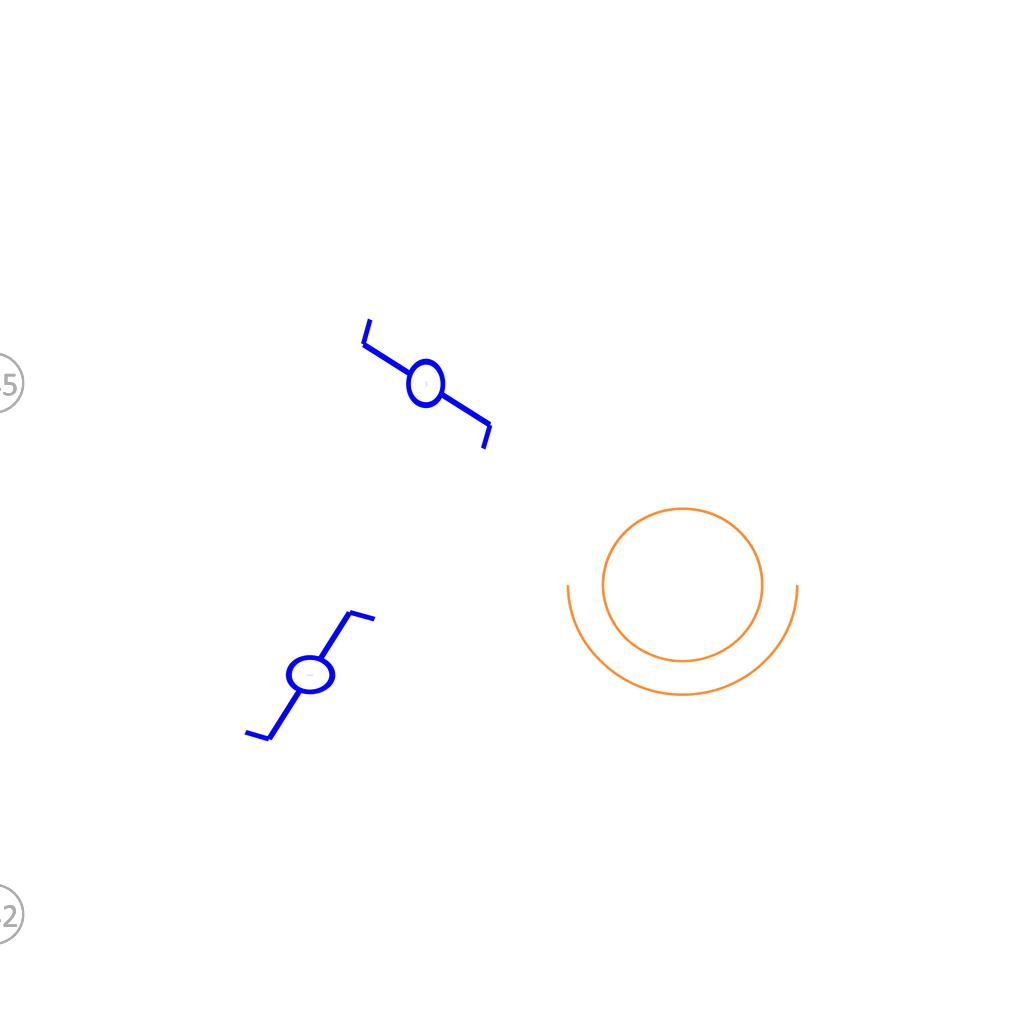Scheinwerfer_fuer_Alarmbeleuchtung: (557, 482, 821, 707)
Wechselschalter: (356, 297, 500, 454), (240, 605, 397, 749)
